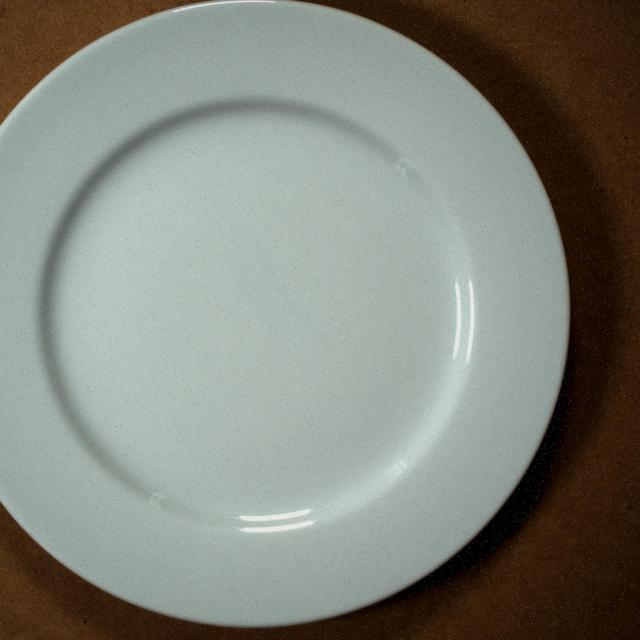plate: (0, 1, 583, 634)
